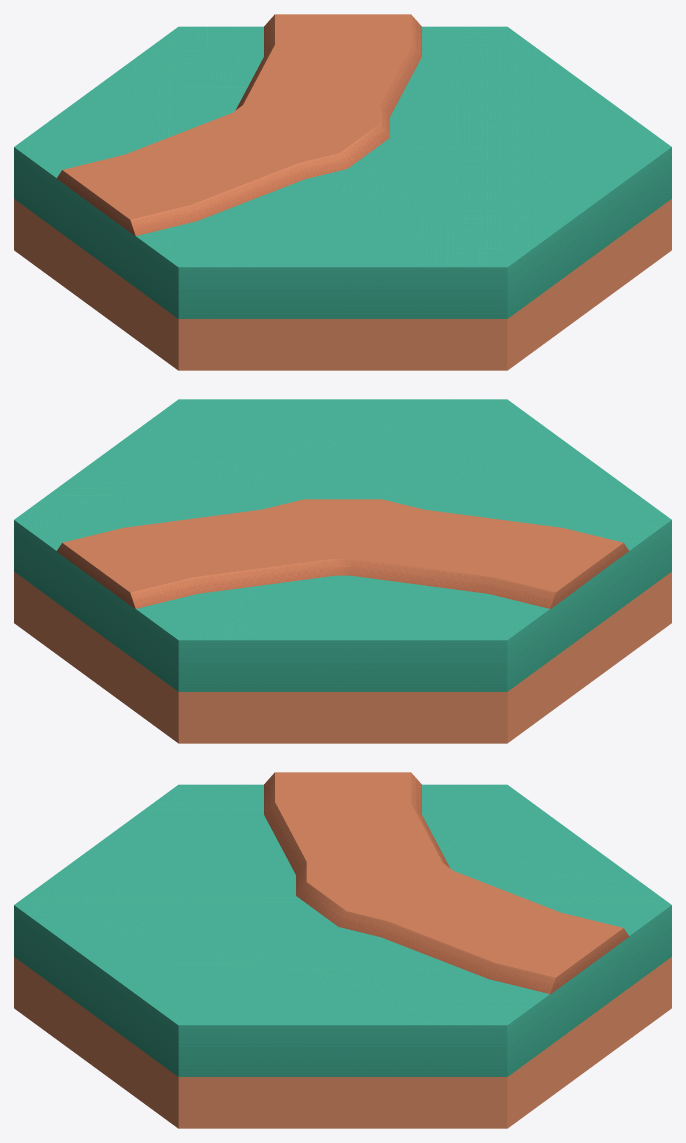
The model's file is grass-path-corner.glb.
The picture shows the model from 3 angles, top to bottom: view 1: azimuth 30°, elevation 25°; view 2: azimuth 150°, elevation 25°; view 3: azimuth 270°, elevation 25°; orthographic projection.
Visible parts, largest first — view 1: grass, path-corner; view 2: grass, path-corner; view 3: grass, path-corner.
Part boxes in pixels (x1,y1,x2,y2): grass: [14, 26, 671, 370]; path-corner: [57, 14, 421, 236]; grass: [14, 399, 671, 743]; path-corner: [56, 499, 628, 609]; grass: [14, 784, 671, 1128]; path-corner: [264, 772, 629, 994].
Bounding box in the file's own units: 1 × 0.224 × 1.15.
Materials: 1 (1 with a texture image).
